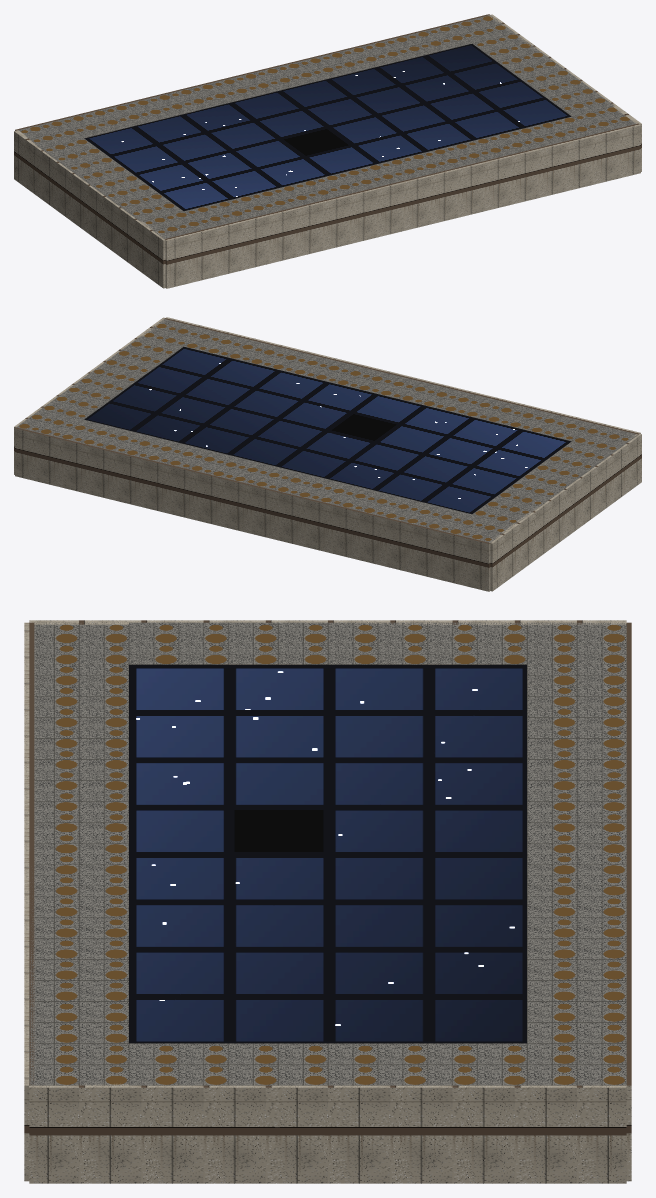
The model's file is upper_level.glb.
The picture shows the model from 3 angles, top to bottom: view 1: azimuth 30°, elevation 25°; view 2: azimuth 150°, elevation 25°; view 3: azimuth 270°, elevation 25°; orthographic projection. The views are drawn at different scales.
Parts seen in each view (by area): view 1: skylight, upper_wall, upper_ceiling; view 2: skylight, upper_wall, upper_ceiling; view 3: skylight, upper_ceiling, upper_wall.
Part boxes in pixels (x1,y1,x2,y2): skylight: (84, 44, 570, 210); upper_wall: (14, 14, 641, 288); upper_ceiling: (18, 15, 635, 238); skylight: (85, 347, 571, 513); upper_wall: (14, 317, 641, 591); upper_ceiling: (17, 319, 637, 542); skylight: (129, 665, 526, 1043); upper_ceiling: (29, 622, 626, 1085); upper_wall: (24, 620, 631, 1183).
Size of the model in its own units: 44.4 by 4.7 by 24.4.
Materials: 9 (4 with a texture image).
